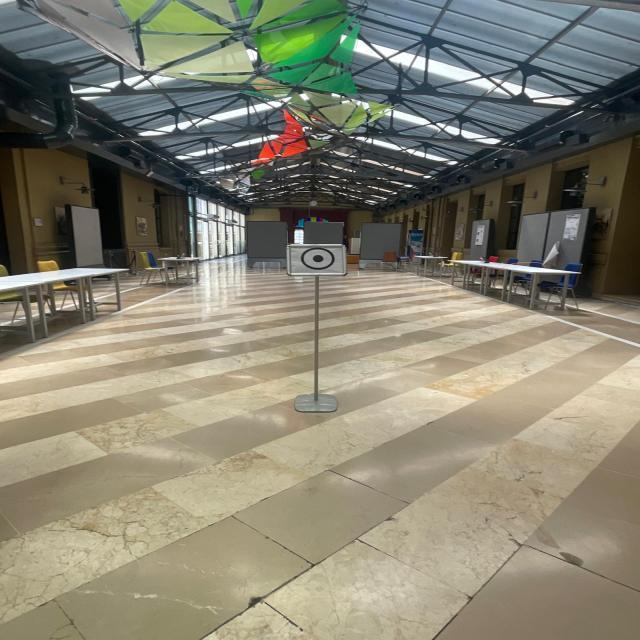Target: (278, 227, 358, 289)
inner: (308, 250, 328, 266)
